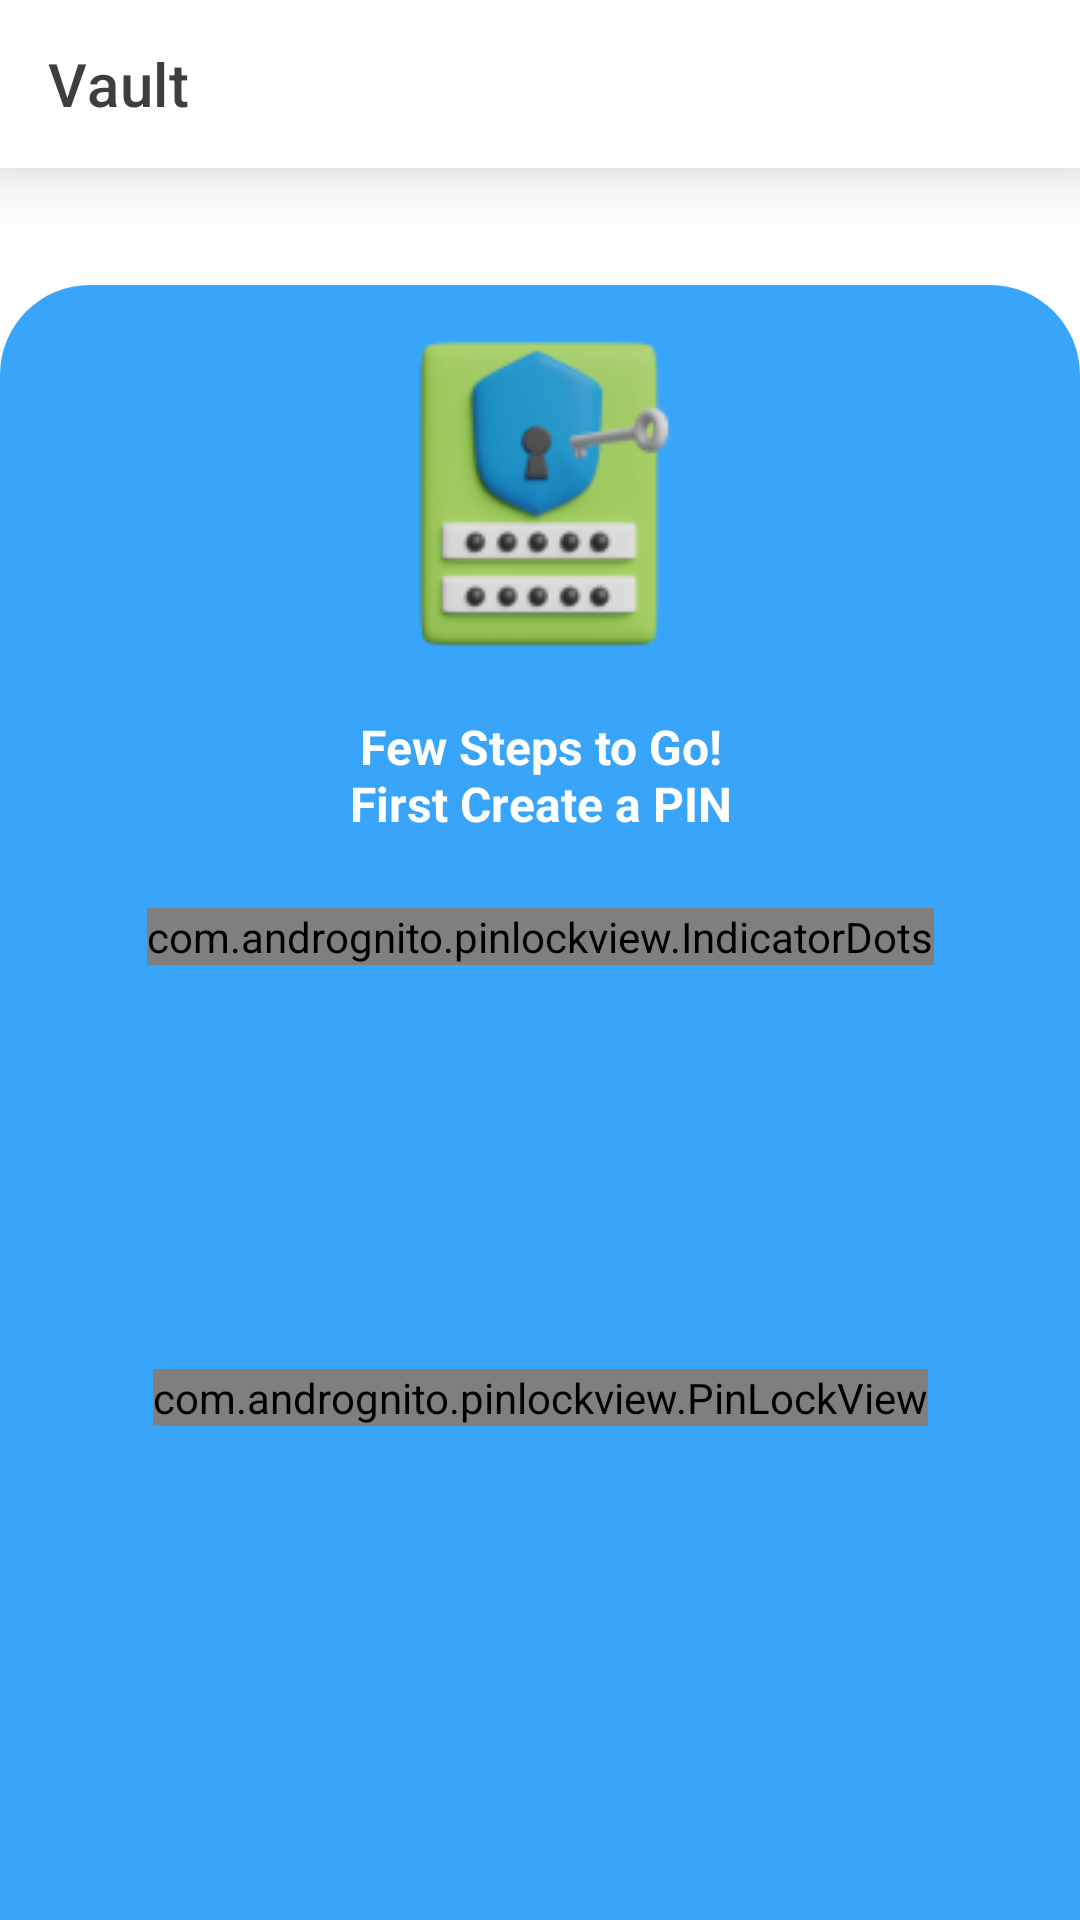

Icons on this 1080 × 1920 Android screen, each with the point to tap as point (x, y):
lock: point (544, 493)
